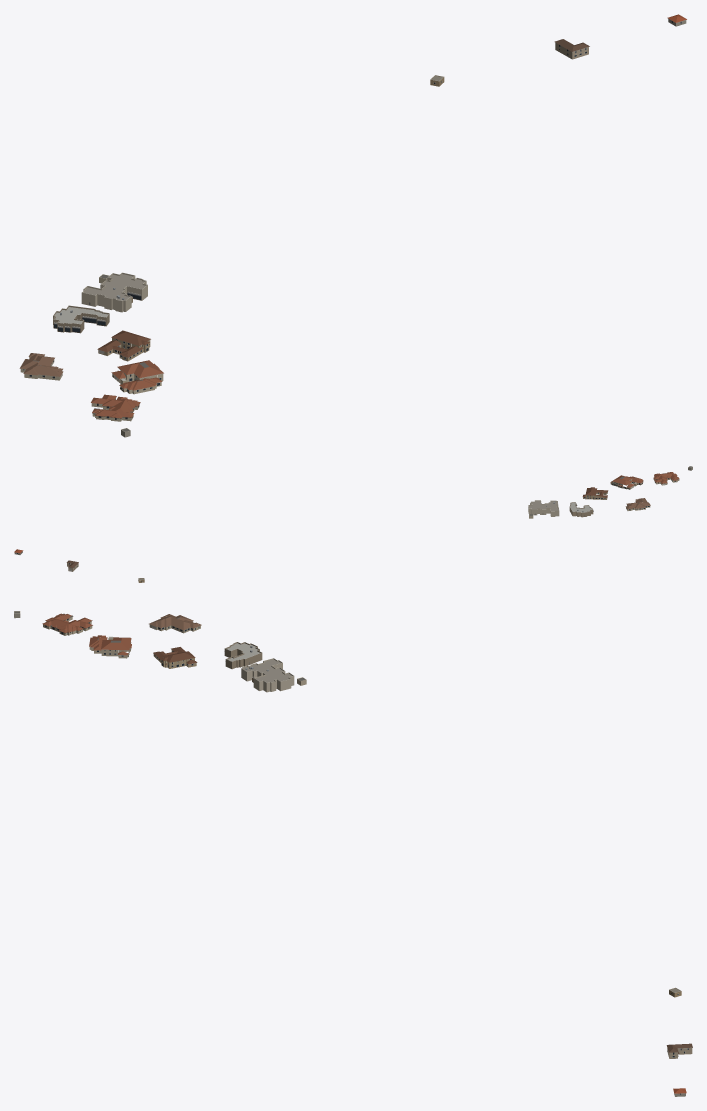
The picture shows the model from 3 angles, top to bottom: view 1: azimuth 30°, elevation 25°; view 2: azimuth 150°, elevation 25°; view 3: azimuth 270°, elevation 25°; orthographic projection. The views are drawn at different scales.
Parts seen in each view (by area): view 1: buildings_r7_c3_lod0; view 2: buildings_r7_c3_lod0; view 3: buildings_r7_c3_lod0.
Boxes of the visible parts, box(x1,y1,x2,y2) form: buildings_r7_c3_lod0: box(19, 14, 686, 437); buildings_r7_c3_lod0: box(14, 466, 692, 582); buildings_r7_c3_lod0: box(14, 611, 692, 1096).
Size of the model in its own units: 787 by 93.9 by 573.
